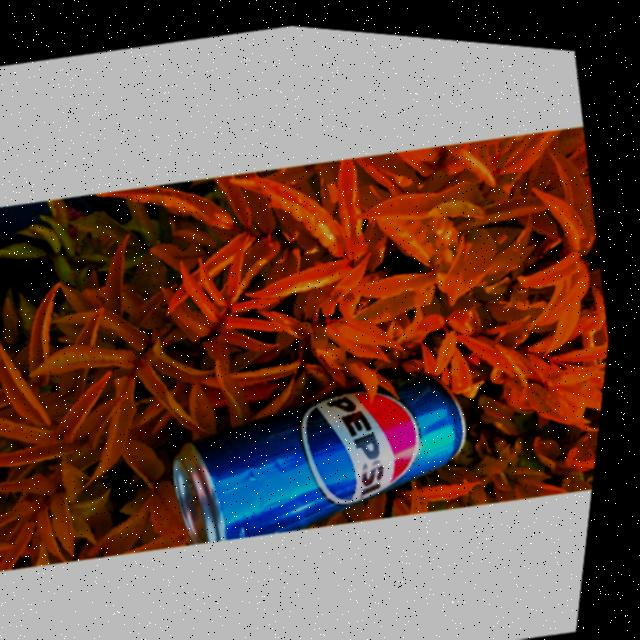Pepsi: (175, 348, 497, 557)
